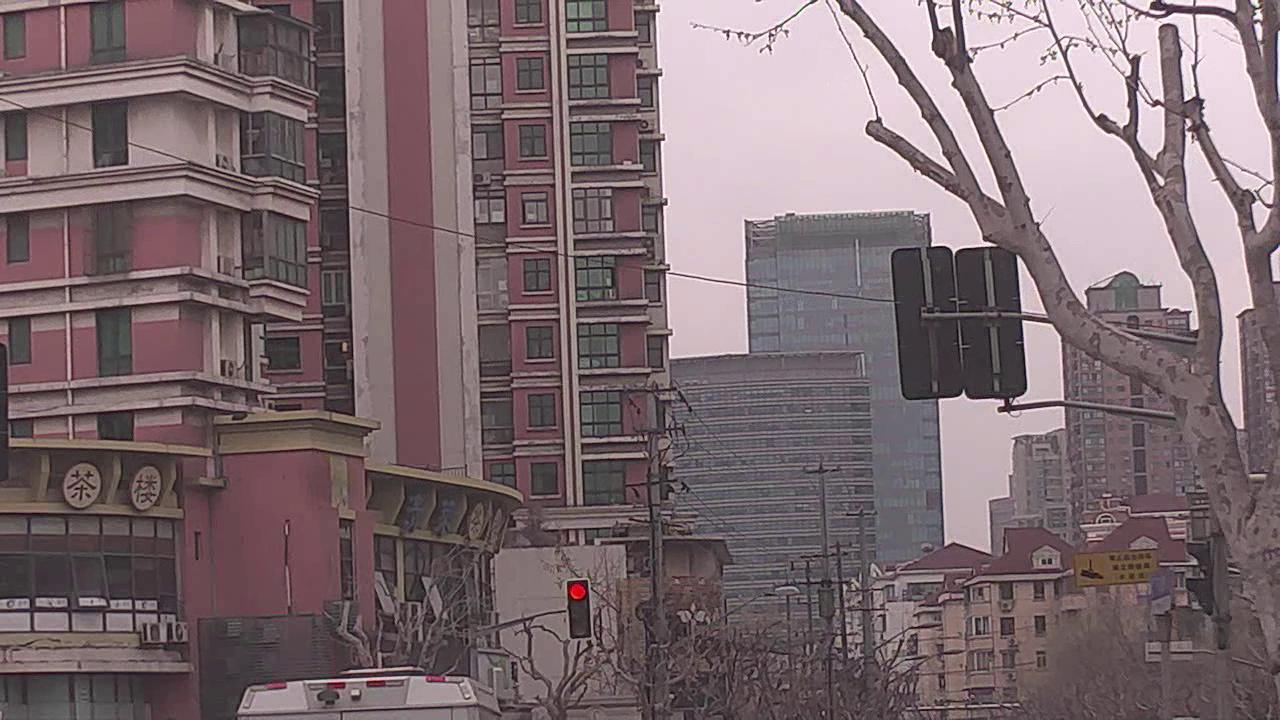traffic_light: (570, 580, 594, 638)
